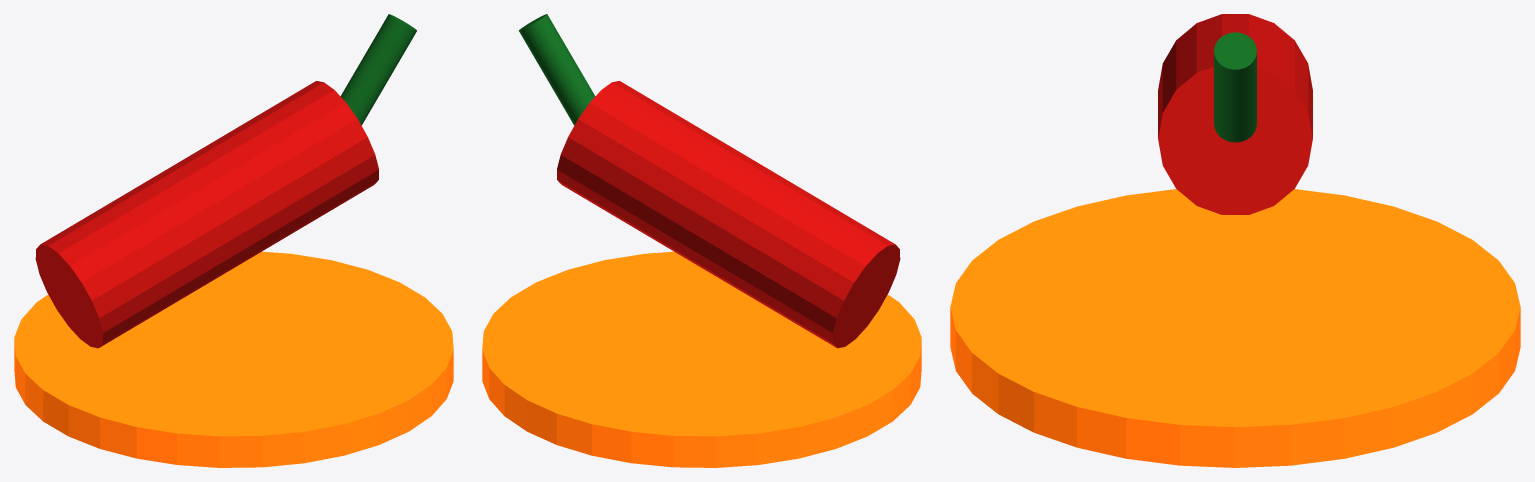
File: spanish_chili_pepper.dae
3 views of the same model, side by side, from view 1: azimuth 30°, elevation 25°; view 2: azimuth 150°, elevation 25°; view 3: azimuth 270°, elevation 25° (orthographic). The views are drawn at different scales.
Parts seen in each view (by area): view 1: 11_16_Popular_Spanish_Chili_Pepper_ROOT_base, 11_16_Popular_Spanish_Chili_Pepper_part_01, 11_16_Popular_Spanish_Chili_Pepper_part_02; view 2: 11_16_Popular_Spanish_Chili_Pepper_ROOT_base, 11_16_Popular_Spanish_Chili_Pepper_part_01, 11_16_Popular_Spanish_Chili_Pepper_part_02; view 3: 11_16_Popular_Spanish_Chili_Pepper_ROOT_base, 11_16_Popular_Spanish_Chili_Pepper_part_01, 11_16_Popular_Spanish_Chili_Pepper_part_02.
Part boxes in pixels (x1,y1,x2,y2): 11_16_Popular_Spanish_Chili_Pepper_ROOT_base: [14, 251, 453, 467]; 11_16_Popular_Spanish_Chili_Pepper_part_01: [35, 81, 378, 348]; 11_16_Popular_Spanish_Chili_Pepper_part_02: [340, 14, 416, 125]; 11_16_Popular_Spanish_Chili_Pepper_ROOT_base: [482, 251, 921, 467]; 11_16_Popular_Spanish_Chili_Pepper_part_01: [557, 81, 900, 348]; 11_16_Popular_Spanish_Chili_Pepper_part_02: [519, 14, 595, 125]; 11_16_Popular_Spanish_Chili_Pepper_ROOT_base: [950, 189, 1520, 467]; 11_16_Popular_Spanish_Chili_Pepper_part_01: [1158, 14, 1312, 214]; 11_16_Popular_Spanish_Chili_Pepper_part_02: [1214, 32, 1256, 142].
Size of the model in its own units: 0.76 by 0.6097 by 0.76.
